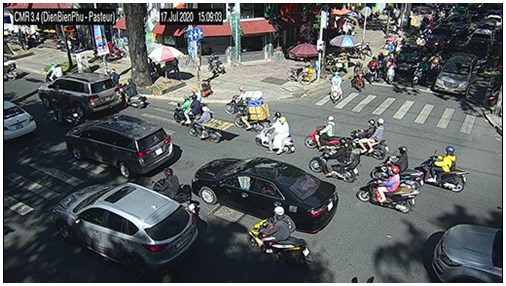xe_hoi: (49, 181, 198, 278), (191, 158, 338, 233), (64, 115, 173, 178), (432, 223, 502, 282), (38, 72, 121, 115), (433, 52, 479, 98), (4, 101, 37, 142), (464, 37, 492, 65)
xe_may: (246, 205, 312, 271), (357, 166, 417, 214), (308, 138, 360, 184), (419, 146, 468, 193), (152, 167, 197, 216), (371, 145, 423, 186), (256, 113, 296, 155), (351, 118, 388, 160), (189, 106, 227, 143), (303, 117, 344, 147), (234, 99, 271, 130), (224, 86, 264, 114), (49, 91, 80, 125), (174, 94, 201, 125), (121, 79, 146, 108), (329, 71, 343, 104), (353, 61, 366, 93), (412, 58, 427, 85), (366, 55, 380, 83), (45, 61, 62, 82), (105, 67, 121, 89), (384, 58, 397, 84), (431, 53, 441, 73)
